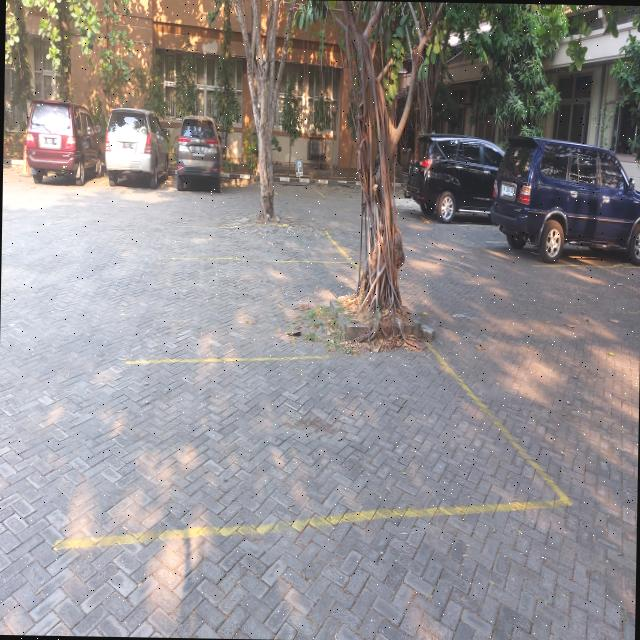empty: (59, 344, 574, 539), (143, 257, 368, 300), (158, 225, 351, 261), (433, 223, 507, 242), (220, 178, 276, 193), (272, 181, 323, 196)
occupied: (485, 137, 640, 267), (407, 136, 504, 226), (20, 98, 106, 184), (98, 108, 168, 188), (160, 116, 221, 192)
